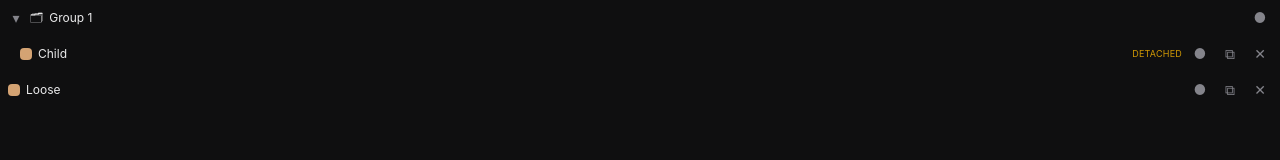
Test: SceneTree › collapsing a component hides its children and leaves loose parts alone
What coordinates should you click on to do the following:
click the button named "Collapse Group 1"
I would click on:
 (16, 18)
Its box is [8,10,24,26].
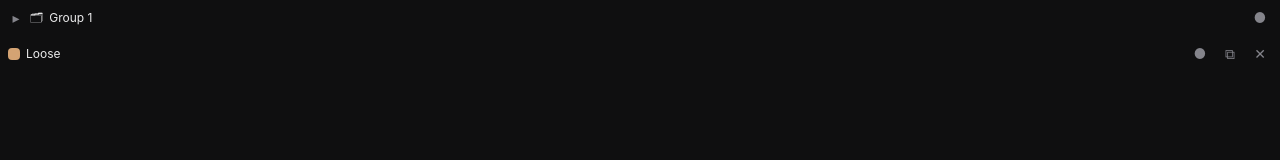
Expected: the list item with test id "node-loose" is shown, [0,36,1279,72]
Result: the list item with test id "node-child" is gone
Result: the button named "Expand Group 1" is shown at [8,10,24,26]
